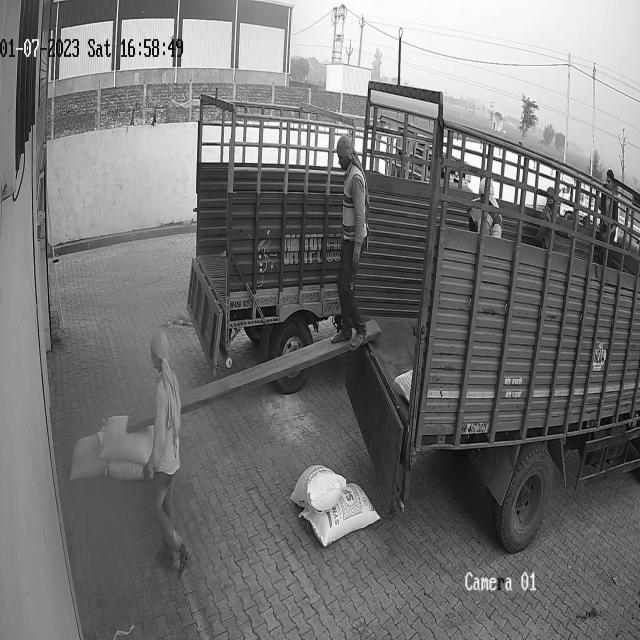sack: (300, 482, 380, 548), (98, 414, 156, 466), (290, 464, 346, 514), (69, 432, 107, 480), (105, 463, 155, 482)
